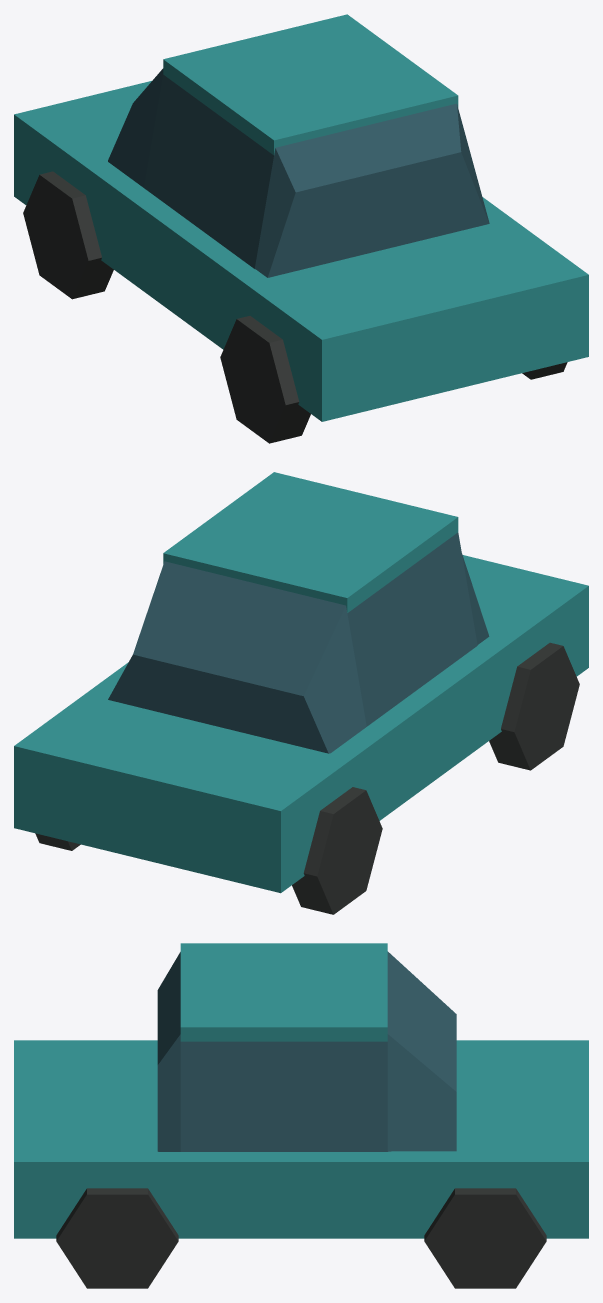
File: compact_far.glb
The picture shows the model from 3 angles, top to bottom: view 1: azimuth 30°, elevation 25°; view 2: azimuth 150°, elevation 25°; view 3: azimuth 270°, elevation 25°; orthographic projection. The views are drawn at different scales.
Parts seen in each view (by area): view 1: CompactModel traffic_teal, Supported cabin glazing, CompactModel traffic_rubber; view 2: CompactModel traffic_teal, Supported cabin glazing, CompactModel traffic_rubber; view 3: CompactModel traffic_teal, Supported cabin glazing, CompactModel traffic_rubber.
Part boxes in pixels (bbox=[...]): CompactModel traffic_teal: bbox=[14, 14, 588, 421]; Supported cabin glazing: bbox=[108, 68, 489, 277]; CompactModel traffic_rubber: bbox=[23, 171, 567, 443]; CompactModel traffic_teal: bbox=[14, 472, 588, 893]; Supported cabin glazing: bbox=[108, 532, 489, 753]; CompactModel traffic_rubber: bbox=[35, 642, 579, 914]; CompactModel traffic_teal: bbox=[14, 943, 588, 1238]; Supported cabin glazing: bbox=[157, 951, 456, 1151]; CompactModel traffic_rubber: bbox=[56, 1188, 546, 1288].
Size of the model in its own units: 1.84 by 1.51 by 3.33.
